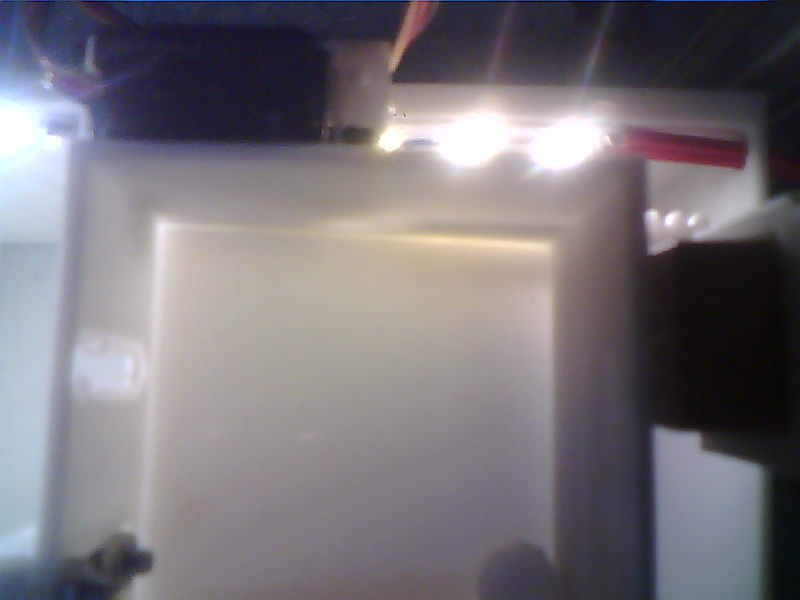Paper: (478, 546, 561, 600)
